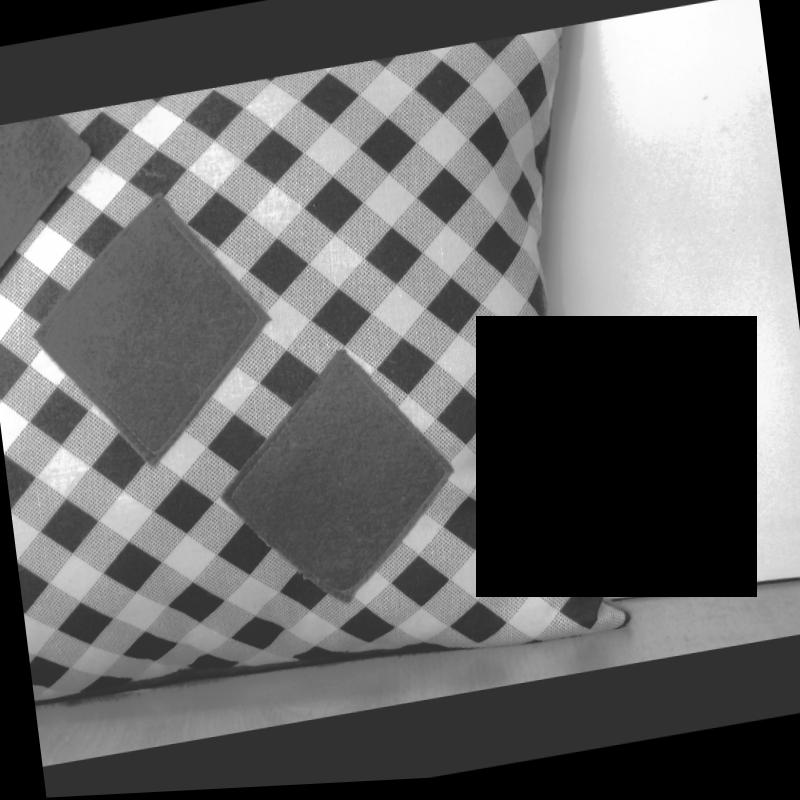pillow: (0, 29, 639, 722)
